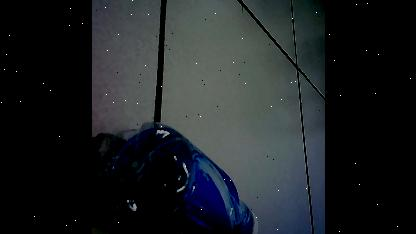Plastic Bottle: (97, 120, 261, 234)
